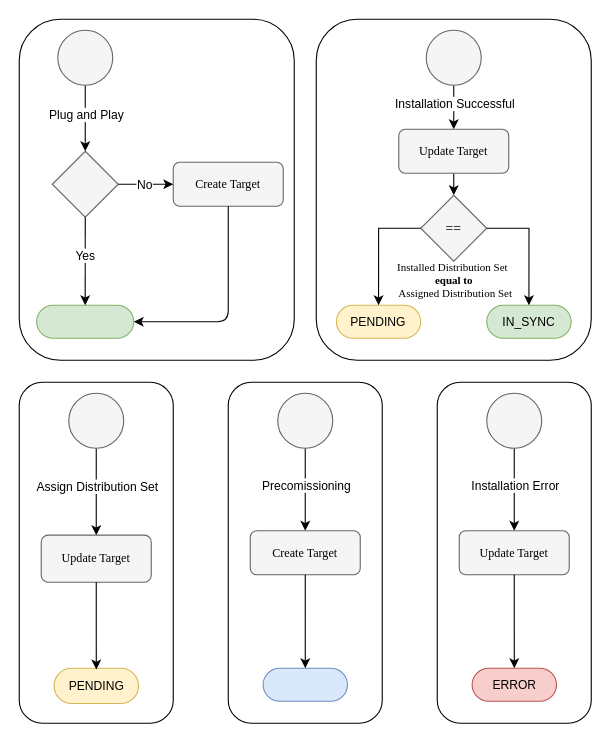
This 611x743 diagram has some shape labels left out. The centre of each missing label's shape, as x and y in pixels:
REGISTERED: [85,321]
Target Exists: [84,183]
UNKNOWN: [304,684]
